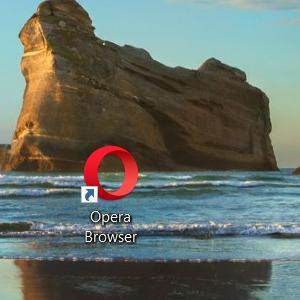opera: (80, 144, 138, 203)
